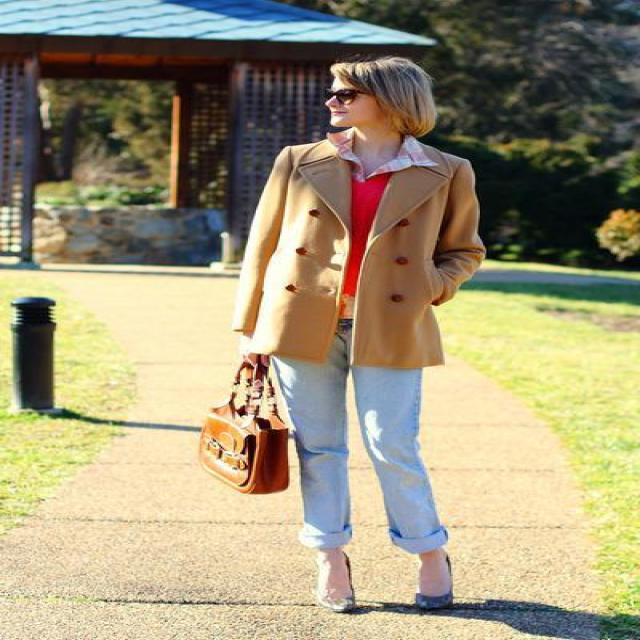bag: (173, 353, 294, 494)
jacket: (221, 127, 485, 381)
pants: (249, 357, 446, 554)
shirt: (326, 141, 436, 295)
shoe: (333, 590, 478, 619)
